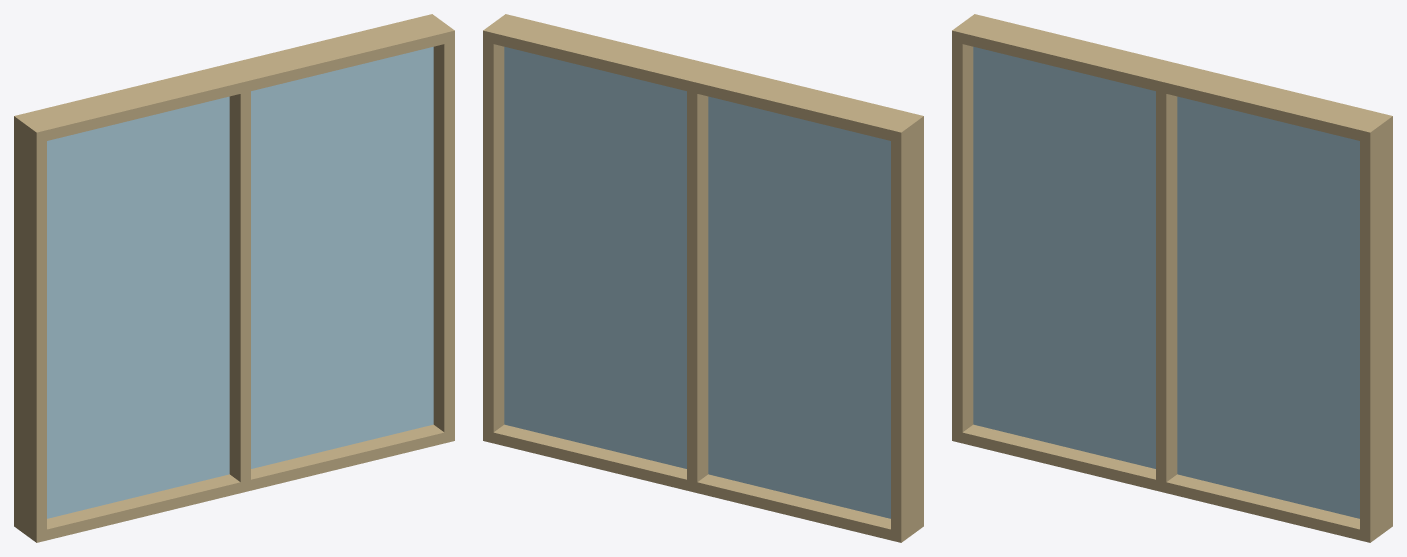
The model's file is janela_160x150.glb.
3 views of the same model, side by side, from view 1: azimuth 30°, elevation 25°; view 2: azimuth 150°, elevation 25°; view 3: azimuth 330°, elevation 25° (orthographic).
Visible parts, largest first — view 1: janela_160x150; view 2: janela_160x150; view 3: janela_160x150.
Part boxes in pixels (bbox=[...]): janela_160x150: bbox=[14, 14, 454, 542]; janela_160x150: bbox=[483, 14, 923, 542]; janela_160x150: bbox=[952, 14, 1392, 542].
Size of the model in its own units: 1.6 by 1.5 by 0.15.
